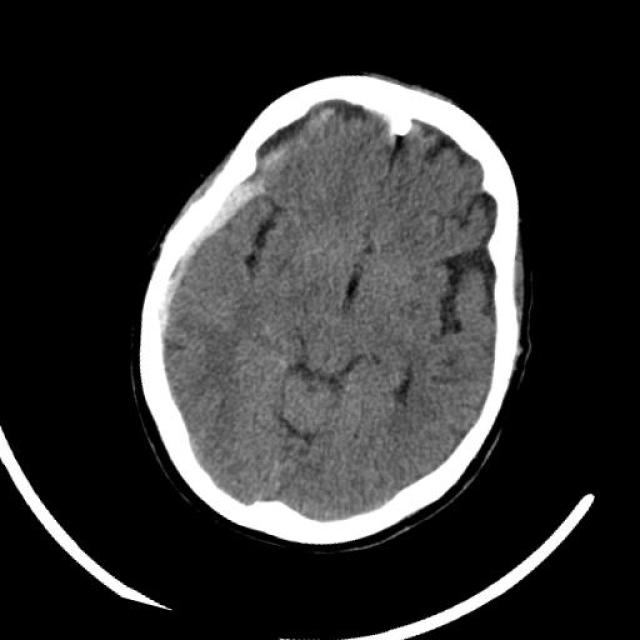Subdural: (99, 124, 272, 364)
